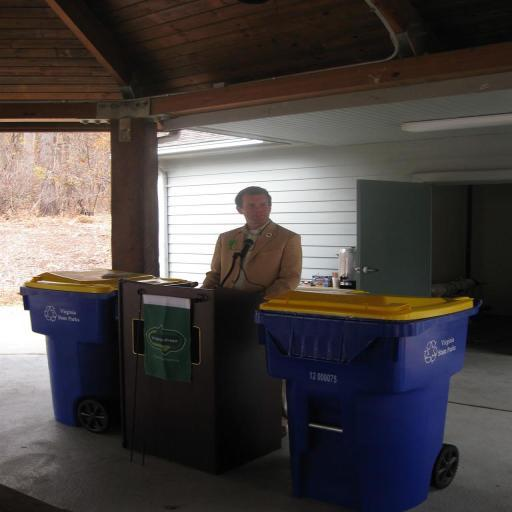trash-can: (252, 272, 482, 504)
